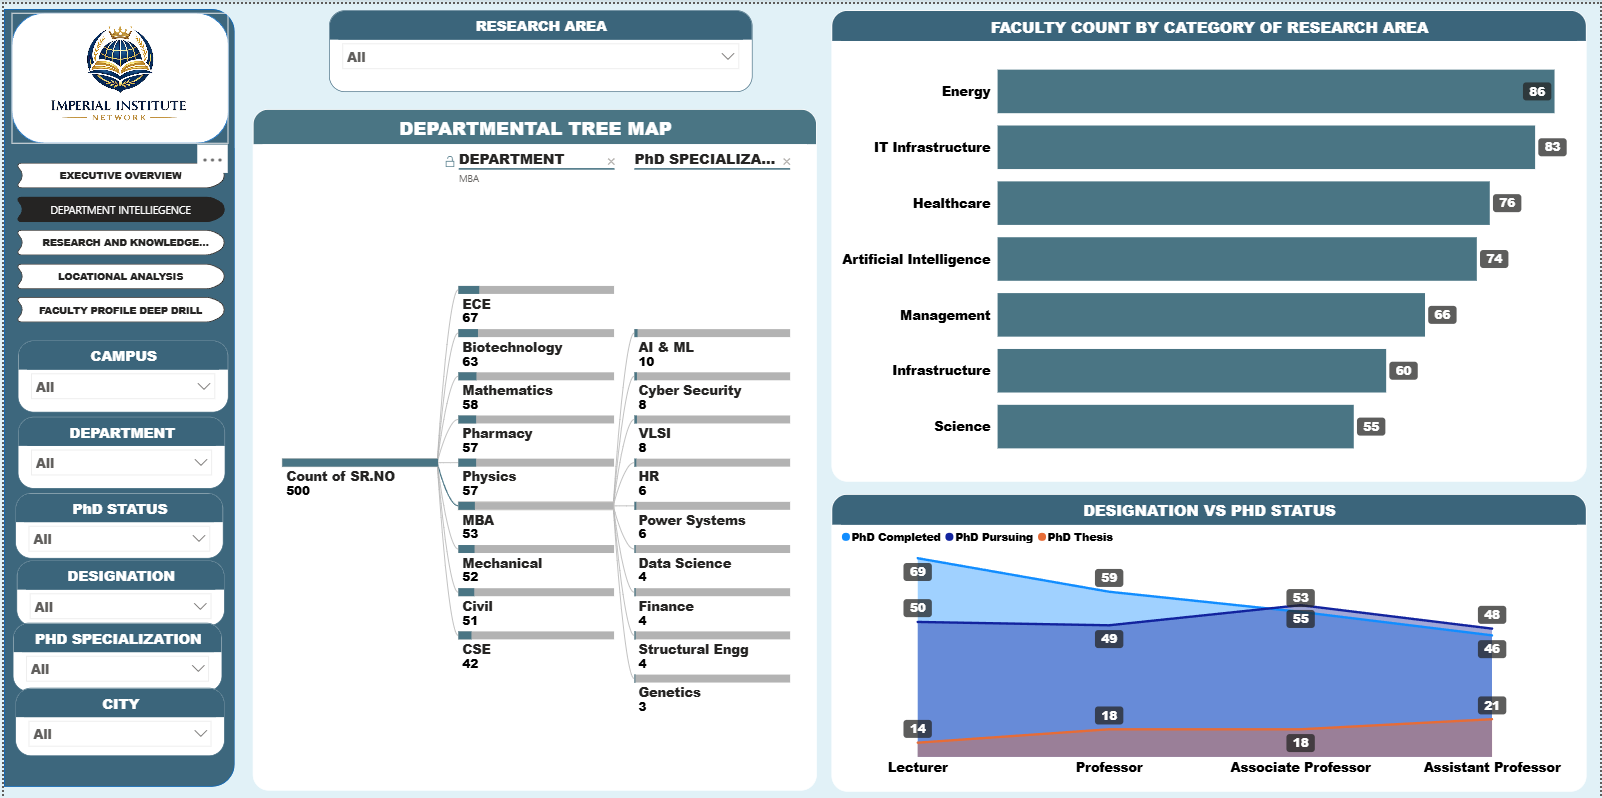

What the dashboard file says about the page in this screenshot:
{"tool":"powerbi","page":{"name":"DEPARTMENT INTELLIEGENCE","canvas":[2400,1250],"ordinal":1},"visuals":[{"type":"shape","box":[0,8,349.8,1164.2],"z":0,"group":"g1"},{"type":"decompositionTreeVisual","title":"DEPARTMENTAL TREE MAP","fields":{"ExplainBy":["PhD Faculty Data.DEPARTMENT","PhD Faculty Data.PhD SPECIALIZATION"],"Analyze":["Count(PhD Faculty Data.SR.NO)"]},"box":[376.1,157.8,855.3,1020.4],"z":0,"group":"g3"},{"type":"slicer","title":"CAMPUS","fields":{"Values":["PhD Faculty Data.CAMPUS"]},"box":[19.8,502.9,319,107.7],"z":0,"group":"g2"},{"type":"group","id":"g1","title":"Group 4","box":[0,8,349.8,1164.2],"z":1000,"group":"g3"},{"type":"slicer","title":"DEPARTMENT","fields":{"Values":["PhD Faculty Data.DEPARTMENT"]},"box":[20,616.3,314.8,107.7],"z":1000,"group":"g2"},{"type":"slicer","title":"PhD STATUS","fields":{"Values":["PhD Faculty Data.PHD STATUS"]},"box":[17.5,730.5,315.5,98.3],"z":2000,"group":"g2"},{"type":"lineChart","title":"DESIGNATION VS PHD STATUS","fields":{"Category":["PhD Faculty Data.DESIGNATION"],"Y":["PhD Faculty Data.PhD Completed","PhD Faculty Data.PhD Pursuing","PhD Faculty Data.PhD Thesis"]},"box":[1255.1,732.7,1143.9,445.5],"z":2000,"group":"g3"},{"type":"barChart","title":"FACULTY COUNT BY CATEGORY OF RESEARCH AREA","fields":{"Category":["PhD Faculty Data.Research Area Category"],"Y":["Count(PhD Faculty Data.SR.NO)"]},"box":[1255.1,8.4,1143.9,705.3],"z":3000,"group":"g3"},{"type":"slicer","title":"DESIGNATION","fields":{"Values":["PhD Faculty Data.DESIGNATION"]},"box":[18.8,832.5,315.5,98.3],"z":3000,"group":"g2"},{"type":"slicer","title":"RESEARCH AREA","fields":{"Values":["PhD Faculty Data.Research Area Category"]},"box":[491.8,8.4,641.4,122.5],"z":4000,"group":"g3"},{"type":"slicer","title":"PHD SPECIALIZATION","fields":{"Values":["PhD Faculty Data.PhD SPECIALIZATION"]},"box":[12.8,924.8,318,103.3],"z":5000,"group":"g2"},{"type":"slicer","title":"CITY","fields":{"Values":["PhD Faculty Data.CITY"]},"box":[16,1023.9,318,101.9],"z":6000,"group":"g2"},{"type":"pageNavigator","box":[14.2,237.6,327.6,241.6],"z":11000,"group":"g3"},{"type":"shape","box":[12.1,14,329.6,195.7],"z":12000,"group":"g3"},{"type":"group","id":"g2","title":"Group 2","box":[12.8,502.9,326,622.8],"z":13000,"group":"g3"},{"type":"image","box":[24.3,33.9,303.3,159.8],"z":14000,"group":"g3"},{"type":"group","id":"g3","title":"Group 1","box":[0,0,2399,1178.3],"z":14001},{"type":"textbox","box":[178.6,1186,566.8,64],"z":14002}]}

Visuals, with their boxes on the page's 2400x1250 design canvas (x1, y1, x2, y2). These are canvas units, not pixel positions in the 1602x798 screenshot, which may show the page scaled, cropped or inside an application window:
shape: box(0, 8, 350, 1172)
"DEPARTMENTAL TREE MAP" decompositionTreeVisual: box(376, 158, 1231, 1178)
"CAMPUS" slicer: box(20, 503, 339, 611)
"Group 4" group: box(0, 8, 350, 1172)
"DEPARTMENT" slicer: box(20, 616, 335, 724)
"PhD STATUS" slicer: box(18, 730, 333, 829)
"DESIGNATION VS PHD STATUS" lineChart: box(1255, 733, 2399, 1178)
"FACULTY COUNT BY CATEGORY OF RESEARCH AREA" barChart: box(1255, 8, 2399, 714)
"DESIGNATION" slicer: box(19, 832, 334, 931)
"RESEARCH AREA" slicer: box(492, 8, 1133, 131)
"PHD SPECIALIZATION" slicer: box(13, 925, 331, 1028)
"CITY" slicer: box(16, 1024, 334, 1126)
pageNavigator: box(14, 238, 342, 479)
shape: box(12, 14, 342, 210)
"Group 2" group: box(13, 503, 339, 1126)
image: box(24, 34, 328, 194)
"Group 1" group: box(0, 0, 2399, 1178)
textbox: box(179, 1186, 745, 1250)
